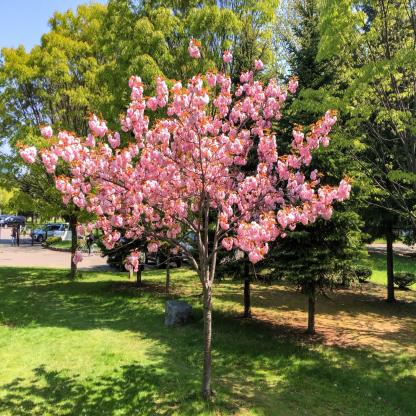YaeSakura: (17, 40, 352, 270)
